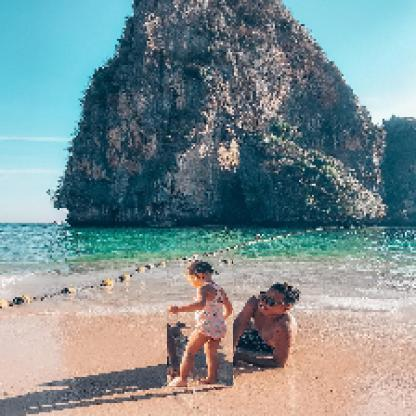child: (168, 261, 235, 389)
